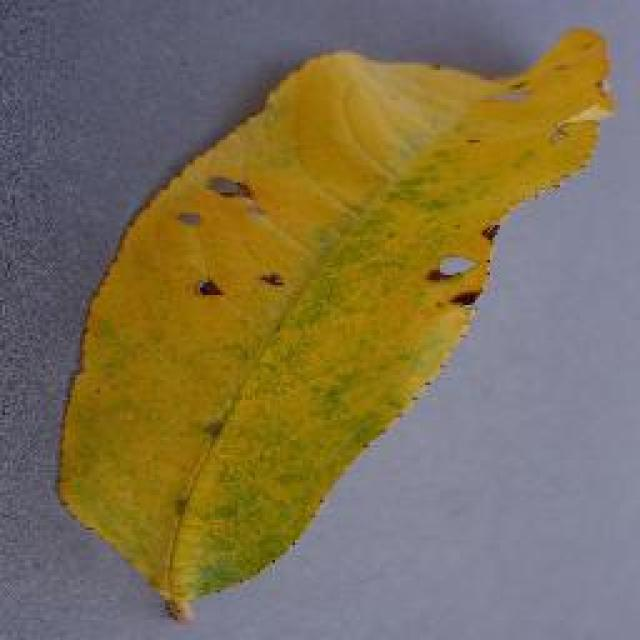Peach_Bacterial_Spot: (175, 111, 513, 342)
